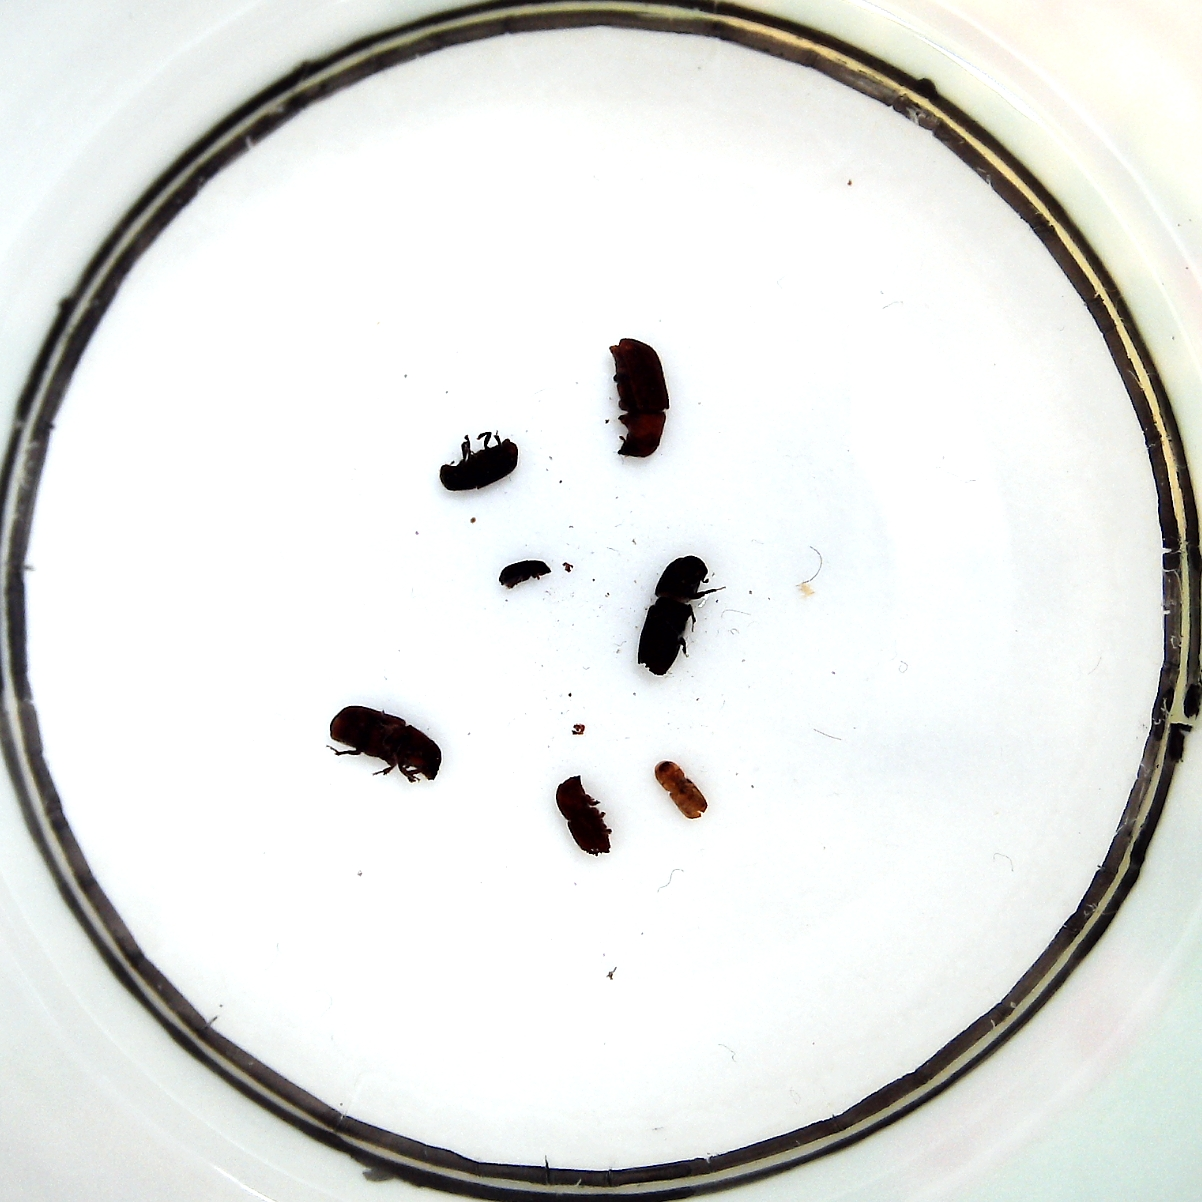Boerner: (636, 555, 708, 676)
Leconte: (331, 706, 441, 782), (608, 338, 670, 457)
acuminatus: (498, 560, 551, 586)
armandi: (439, 439, 518, 491)
coleoptera: (655, 761, 708, 819)
linnaeus: (556, 776, 613, 856)
